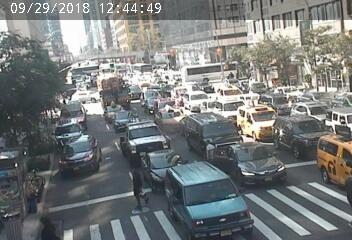car: (164, 163, 220, 216), (283, 118, 318, 148), (65, 140, 93, 173), (238, 155, 270, 180), (319, 138, 345, 167), (58, 99, 86, 123), (129, 125, 159, 147), (199, 121, 229, 141), (329, 98, 352, 122), (184, 69, 239, 79), (100, 76, 124, 98), (142, 150, 168, 170), (243, 108, 267, 128), (157, 110, 181, 128), (57, 126, 85, 141), (129, 86, 150, 103), (212, 100, 234, 115), (187, 91, 210, 105), (302, 102, 323, 114), (118, 114, 133, 130), (240, 89, 256, 102), (268, 94, 285, 105), (156, 98, 176, 107), (102, 104, 114, 114), (147, 90, 163, 96)
